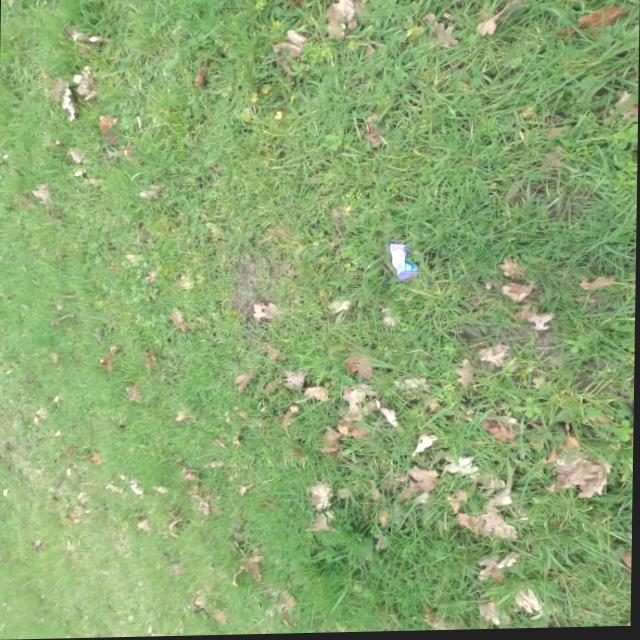Plastic: (389, 244, 422, 283)
